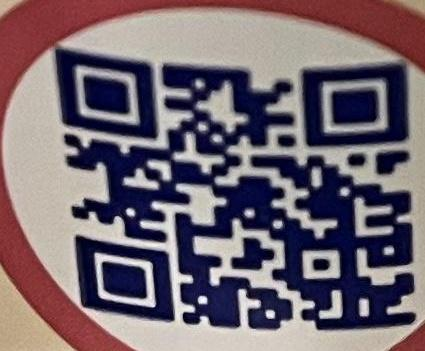qrcode: (56, 49, 419, 332)
